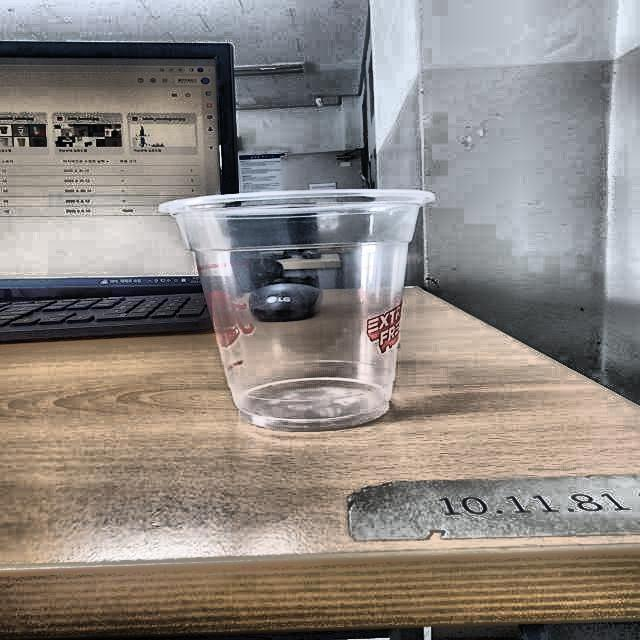plastic cup: (157, 188, 436, 432)
